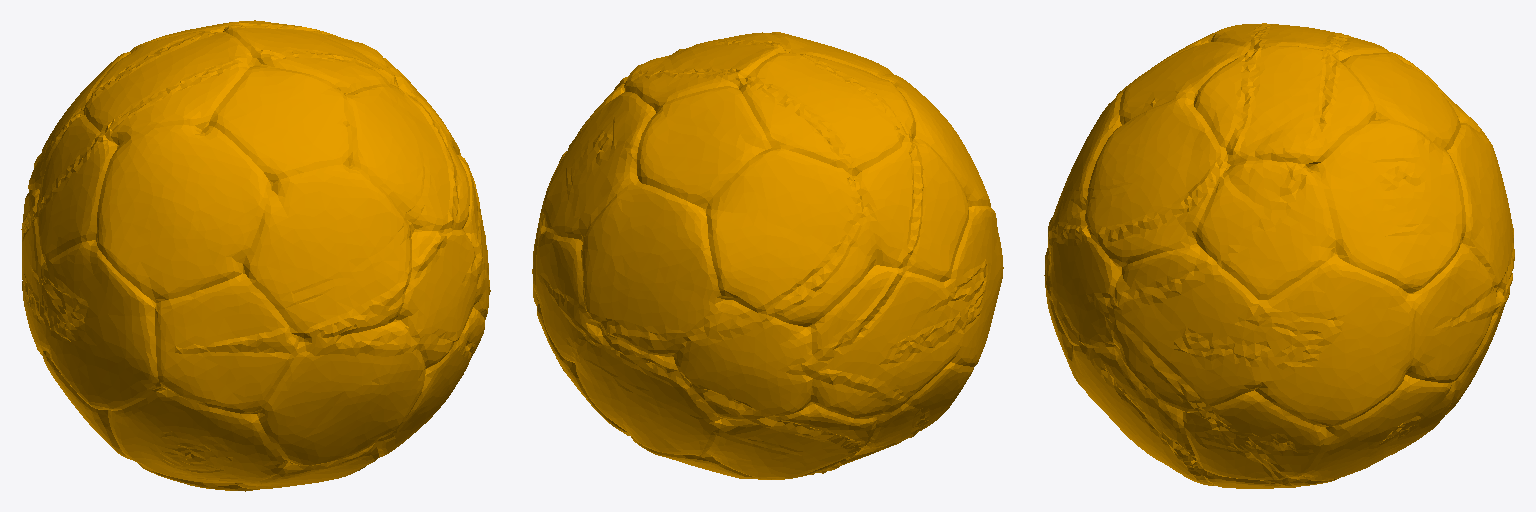
The robot description file, URDF, robot "model.urdf":
<?xml version="1.0" ?>
<robot name="model.urdf">
<link name="ycb">
<visual>
<origin rpy="0 0 0" xyz="0 0 0"/>
<geometry>
<mesh filename="meshes/textured_modified.obj" scale="1 1 1"/>
</geometry>
</visual>
<collision>
<origin rpy="0 0 0" xyz="0 0 0"/>
<geometry>
<mesh filename="meshes/textured_modified.obj" scale="1 1 1"/>
</geometry>
</collision>
<inertial>
<origin rpy="0 0 0" xyz="0 0 0"/>
       <mass value="0.123"/>
<inertia ixx="1" ixy="0" ixz="0" iyy="1" iyz="0" izz="1"/>
</inertial>
<contact>
<lateral_friction value="0.5"/>
<rolling_friction value="0.0"/>
<contact_cfm value="0.0"/>
<contact_erp value="1.0"/>
</contact>
</link>
</robot>

--- Facts derived from the render (not from the file) ---
3 views of the same robot in one strip: view 1: azimuth 30°, elevation 25°; view 2: azimuth 150°, elevation 25°; view 3: azimuth 270°, elevation 25° (orthographic).
Model model.urdf with 1 links and 0 joints (none), rooted at ycb, posed all joints at 0.
Links seen in each view (by area): view 1: ycb; view 2: ycb; view 3: ycb.
Boxes of the visible links, left/top/right/bottom form: ycb: left=21, top=20, right=490, bottom=491; ycb: left=532, top=32, right=1003, bottom=479; ycb: left=1044, top=23, right=1514, bottom=488.
Size in the robot's own frame: 0.1281 by 0.1282 by 0.1276 metres.
1 mesh visuals loaded from 1 distinct referenced files (1 OBJ).